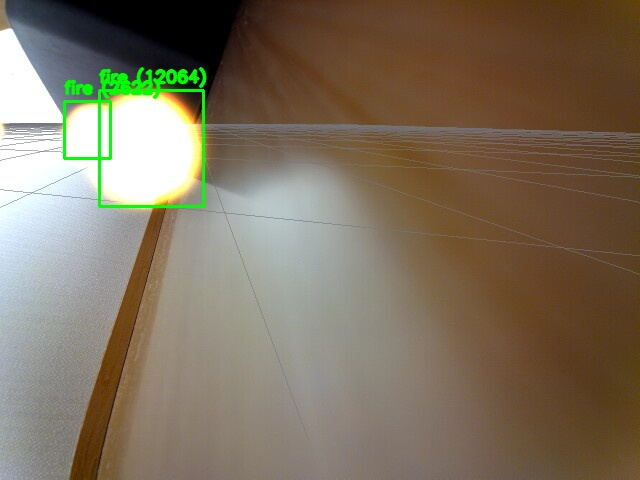fire: (99, 90, 203, 206), (64, 101, 110, 158)
